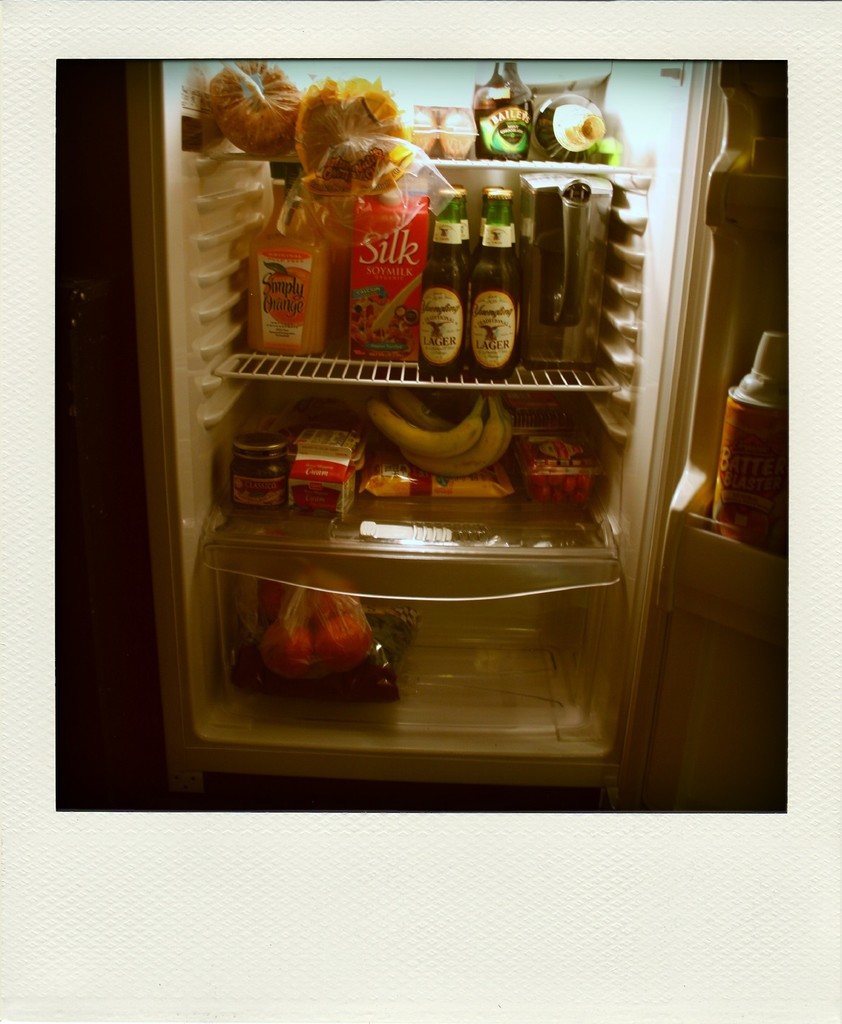Refrigerator: (125, 60, 790, 812)
